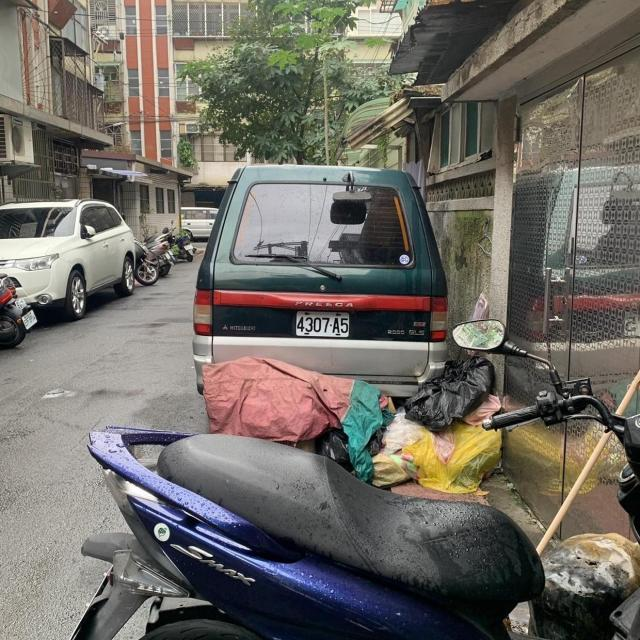W: (291, 302, 352, 341), (17, 304, 48, 332)
